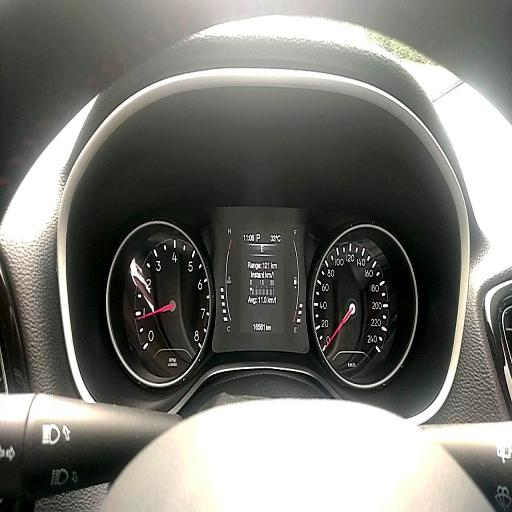tachometer: (135, 234, 210, 372)
